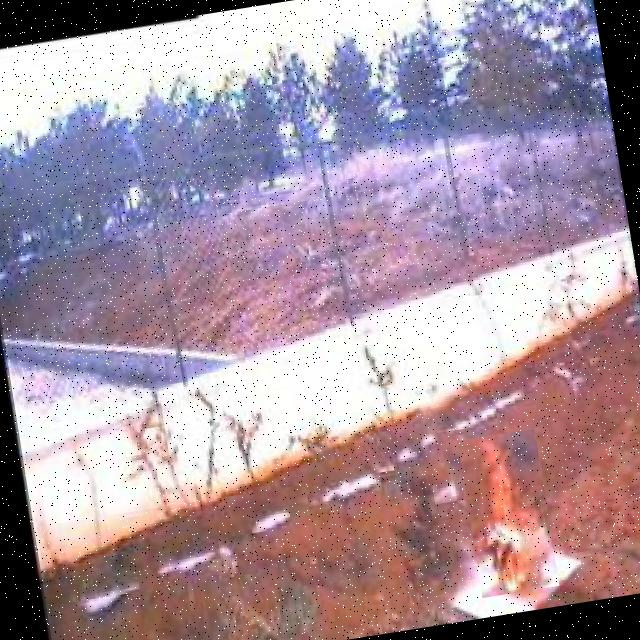fire: (458, 429, 560, 598)
